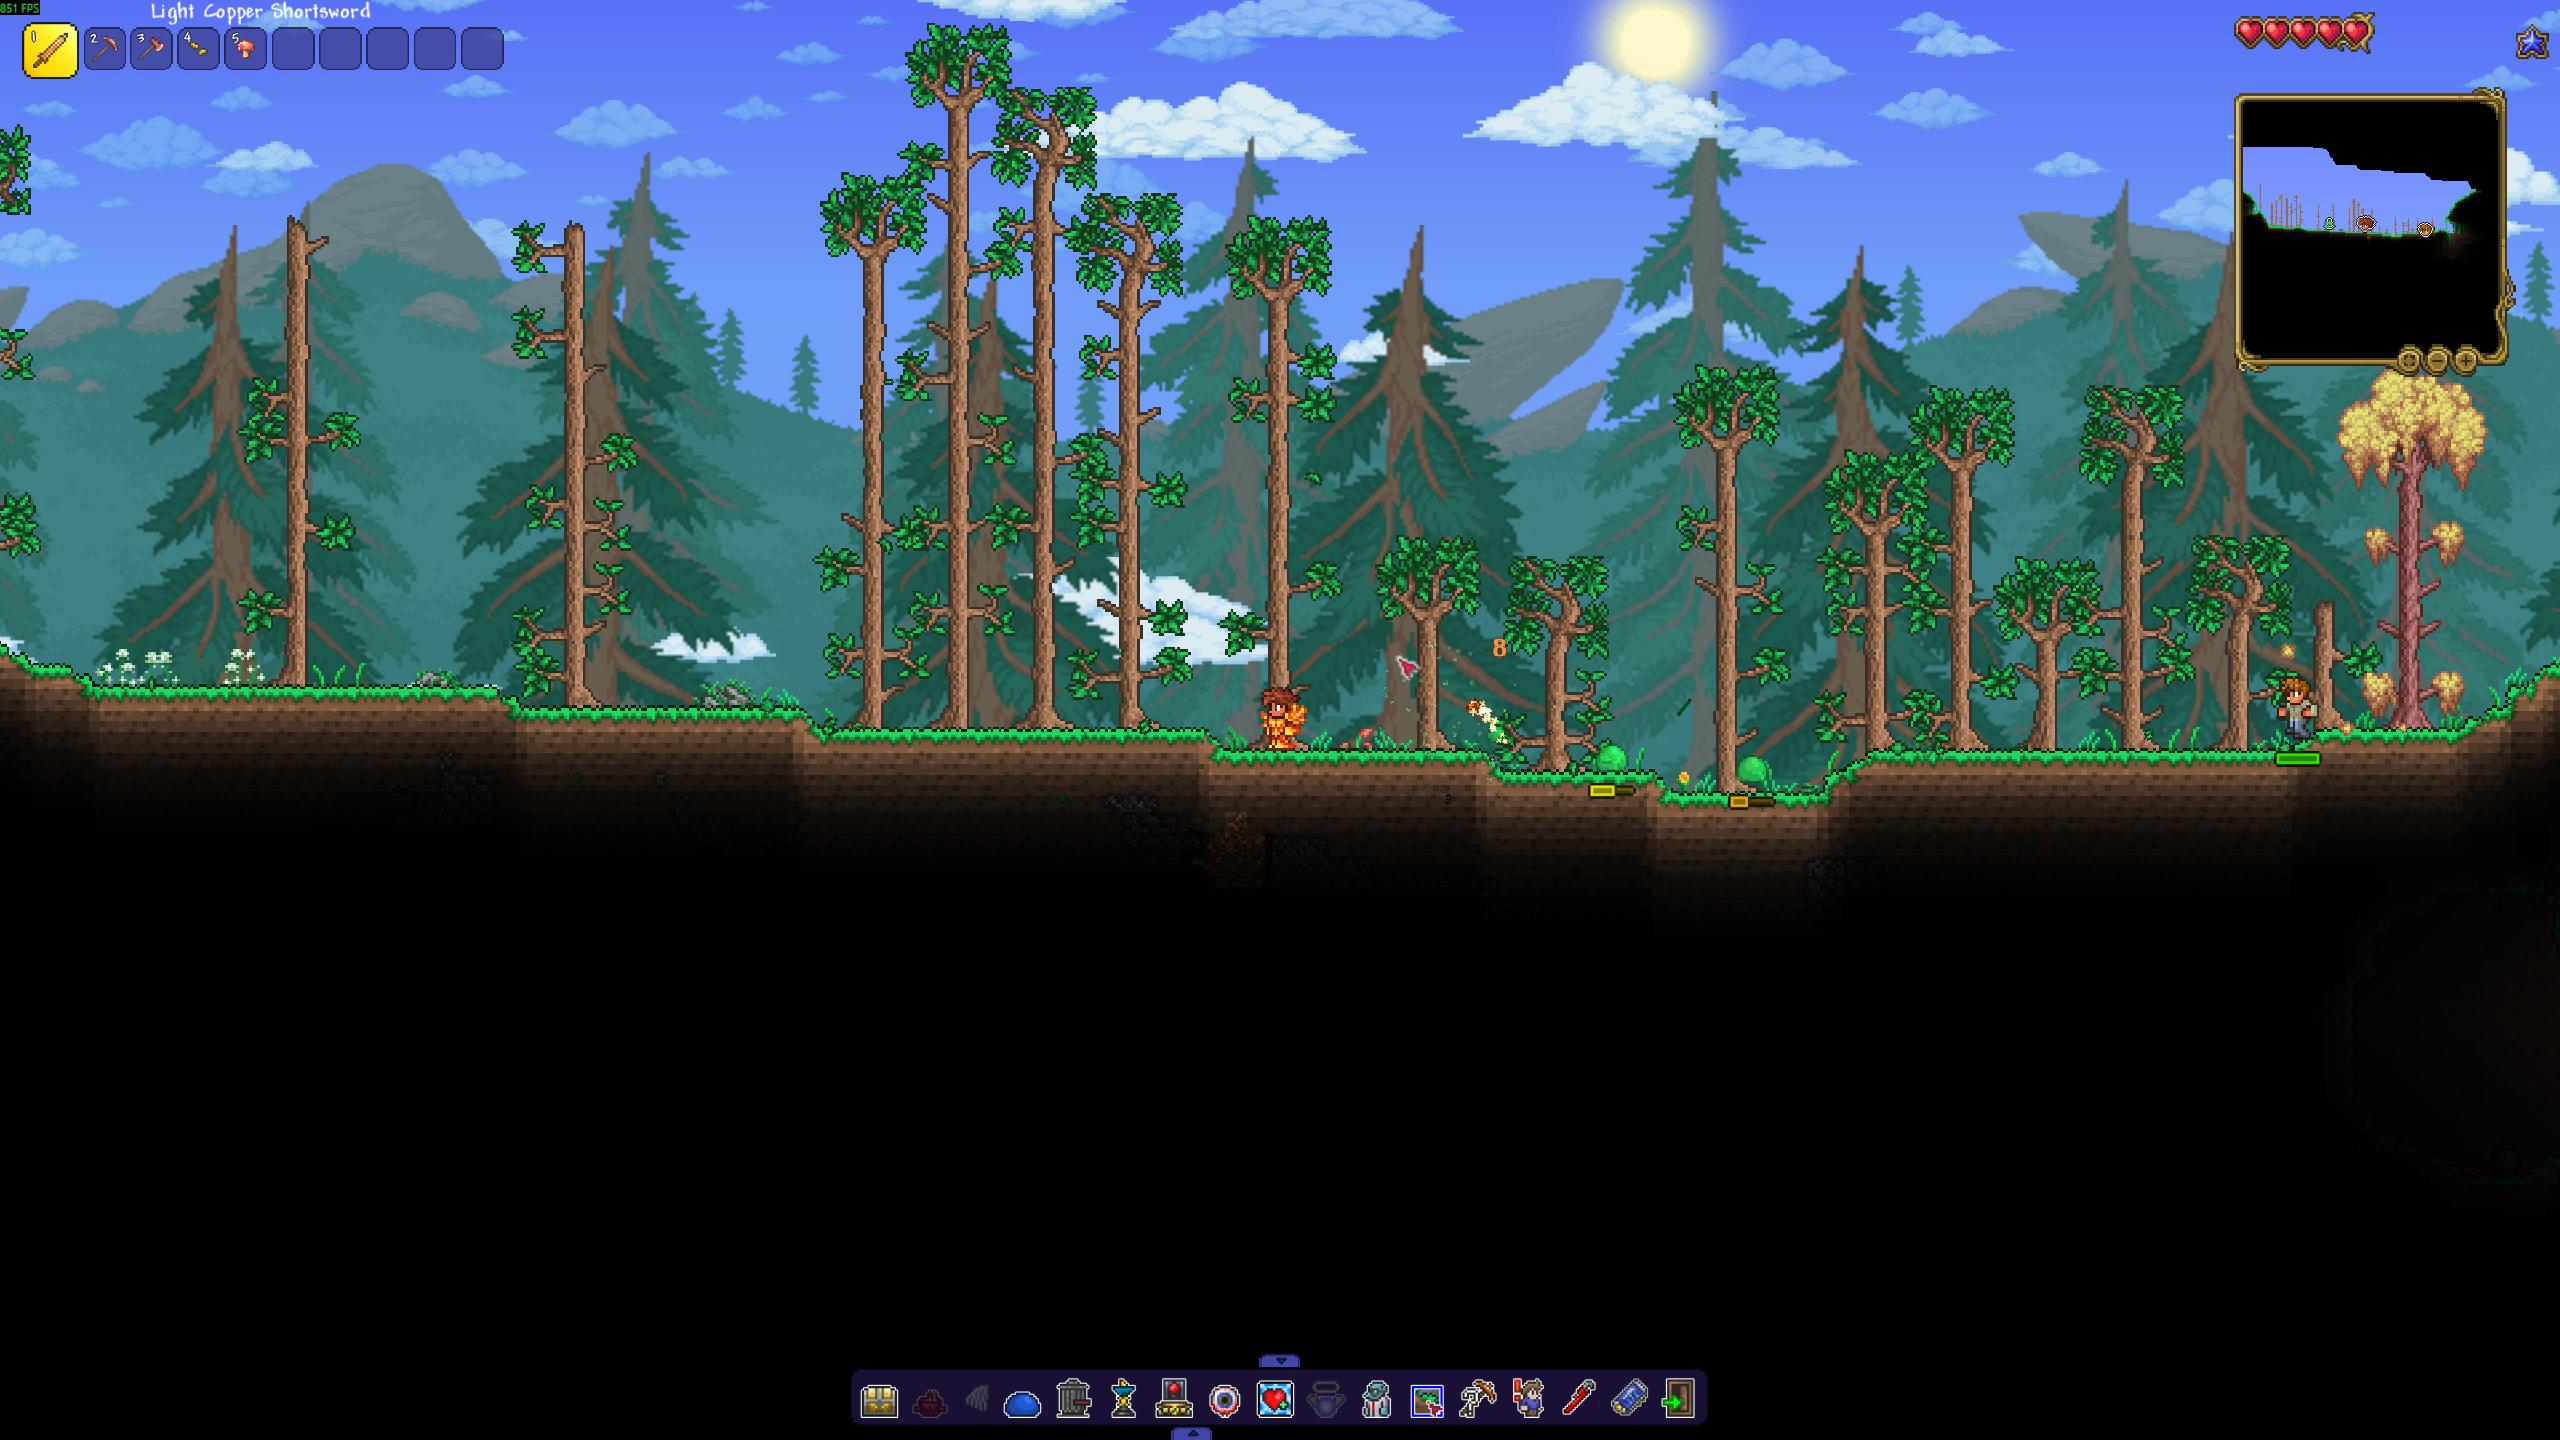Green Slime: (1734, 751, 1772, 788), (1591, 742, 1628, 772)
